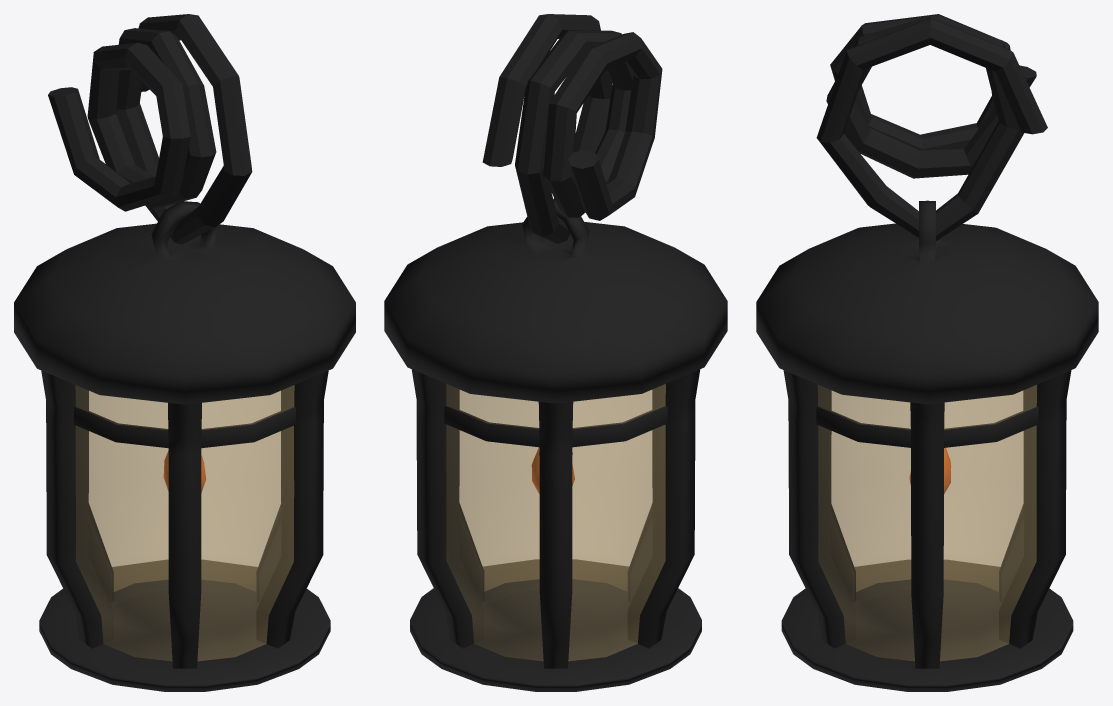
The model's file is tunnel_lump_A_1.fbx.
The picture shows the model from 3 angles, left to right: view 1: azimuth 30°, elevation 25°; view 2: azimuth 150°, elevation 25°; view 3: azimuth 270°, elevation 25°; orthographic projection.
Parts seen in each view (by area): view 1: tunnel_lamp_A_lampFrame, tunnel_lamp_A_glass, tunnel_lamp_A_string1, tunnel_lamp_A_lampPlate; view 2: tunnel_lamp_A_lampFrame, tunnel_lamp_A_glass, tunnel_lamp_A_string1, tunnel_lamp_A_lampPlate; view 3: tunnel_lamp_A_lampFrame, tunnel_lamp_A_glass, tunnel_lamp_A_string1, tunnel_lamp_A_lampPlate.
Boxes of the visible parts, x1,y1,x2,y2 form: tunnel_lamp_A_lampFrame: (14, 201, 355, 691); tunnel_lamp_A_glass: (75, 385, 294, 660); tunnel_lamp_A_string1: (48, 14, 252, 244); tunnel_lamp_A_lampPlate: (112, 590, 257, 654); tunnel_lamp_A_lampFrame: (384, 199, 727, 691); tunnel_lamp_A_glass: (446, 384, 665, 660); tunnel_lamp_A_string1: (482, 14, 662, 243); tunnel_lamp_A_lampPlate: (483, 590, 628, 654); tunnel_lamp_A_lampFrame: (756, 200, 1098, 691); tunnel_lamp_A_glass: (818, 385, 1036, 660); tunnel_lamp_A_string1: (816, 14, 1047, 241); tunnel_lamp_A_lampPlate: (855, 590, 999, 654).
Bounding box in the file's own units: 40.67 × 80.7 × 40.67.
